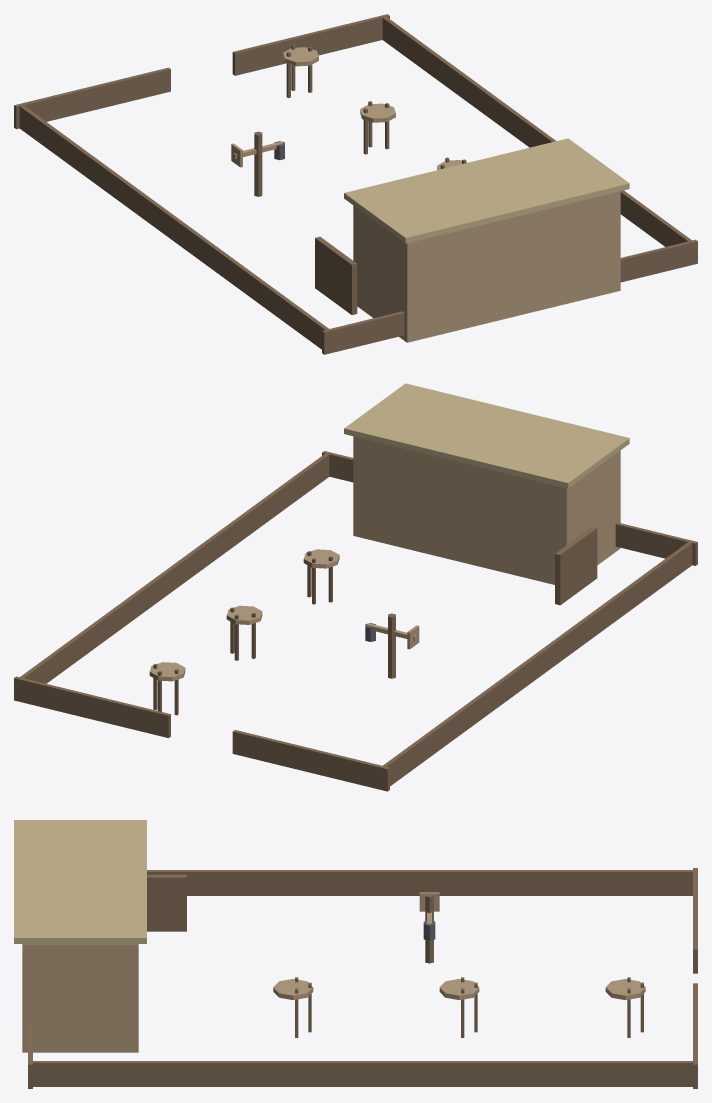
The model's file is archery_yard.glb.
3 views of the same model, one above another, from view 1: azimuth 30°, elevation 25°; view 2: azimuth 150°, elevation 25°; view 3: azimuth 270°, elevation 25° (orthographic). The views are drawn at different scales.
Visible parts, largest first — view 1: ArcheryYard; view 2: ArcheryYard; view 3: ArcheryYard.
Part boxes in pixels (<box>): ArcheryYard: <box>14,14,697,354</box>; ArcheryYard: <box>14,383,697,791</box>; ArcheryYard: <box>14,820,697,1088</box>.
Bounding box in the file's own units: 14 × 3.9 × 20.57.
